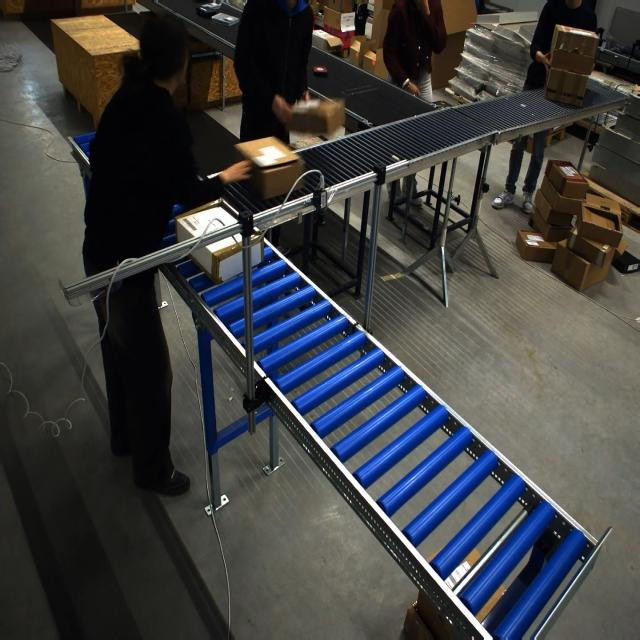box: (176, 199, 265, 285), (232, 136, 303, 203), (293, 96, 341, 137)
product: (211, 12, 241, 26), (195, 3, 222, 18), (313, 66, 327, 77)
